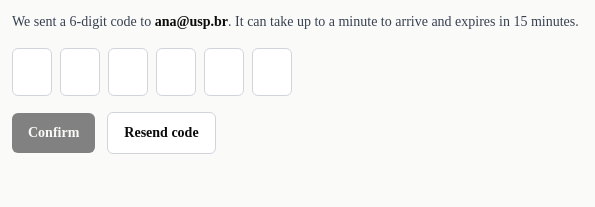
Test case: VerificationCodeForm › a refused resend is explained
Click the button "Resend code".
click(161, 133)  # box [107,112,216,154]
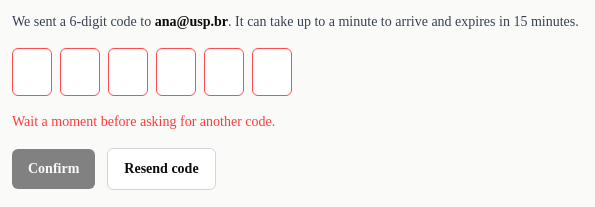
Check: the message reads "Wait a moment before asking for another code.", box [12,114,275,129]
